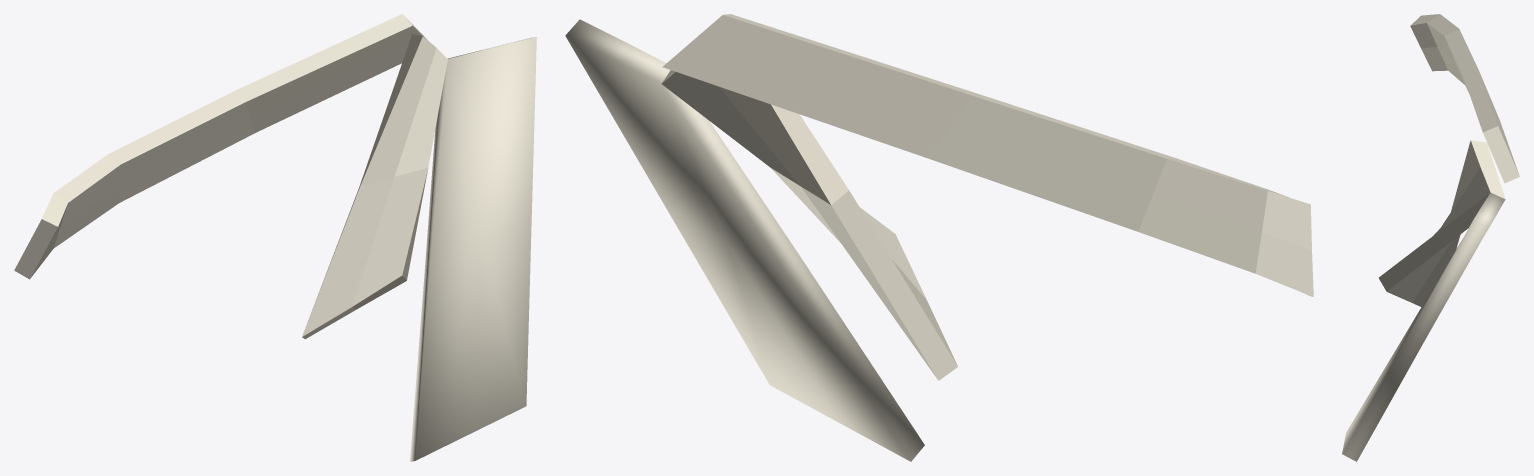
3 renders of one model, left to right at view 1: azimuth 30°, elevation 25°; view 2: azimuth 150°, elevation 25°; view 3: azimuth 270°, elevation 25°, orthographic. The views are drawn at different scales.
Visible parts, largest first — view 1: ZA_d915b46c55a442e5; view 2: ZA_d915b46c55a442e5; view 3: ZA_d915b46c55a442e5.
Boxes of the visible parts, box(x1,y1,x2,y2) form: ZA_d915b46c55a442e5: box(14, 14, 536, 461); ZA_d915b46c55a442e5: box(565, 14, 1313, 461); ZA_d915b46c55a442e5: box(1342, 14, 1519, 461).
Size of the model in its own units: 0.0171 by 0.0114 by 0.00532.
